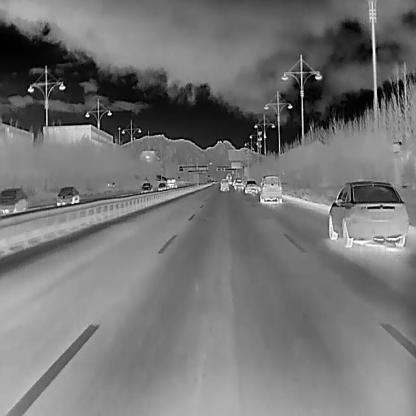car: (328, 180, 408, 247), (0, 187, 27, 214), (259, 175, 282, 204), (56, 186, 79, 205), (243, 181, 257, 194), (140, 182, 153, 194), (219, 179, 229, 191), (233, 178, 243, 189), (166, 178, 176, 188), (226, 173, 232, 185), (157, 182, 167, 189)
